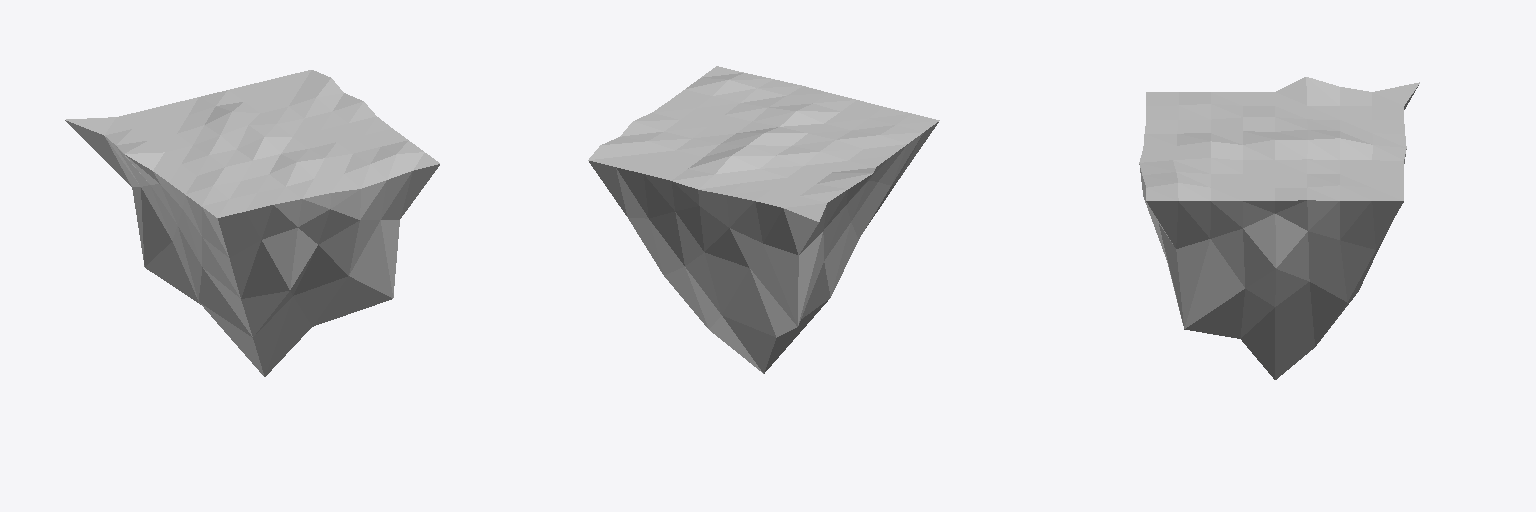
The model's file is RockPlatform.obj.
3 views of the same model, side by side, from view 1: azimuth 30°, elevation 25°; view 2: azimuth 150°, elevation 25°; view 3: azimuth 270°, elevation 25° (orthographic).
Parts seen in each view (by area): view 1: rock-colonly; view 2: rock-colonly; view 3: rock-colonly.
Boxes of the visible parts, <box> form: rock-colonly: <box>65,70,439,376</box>; rock-colonly: <box>588,66,939,373</box>; rock-colonly: <box>1139,77,1419,379</box>.
Size of the model in its own units: 2.18 by 2.08 by 2.18.